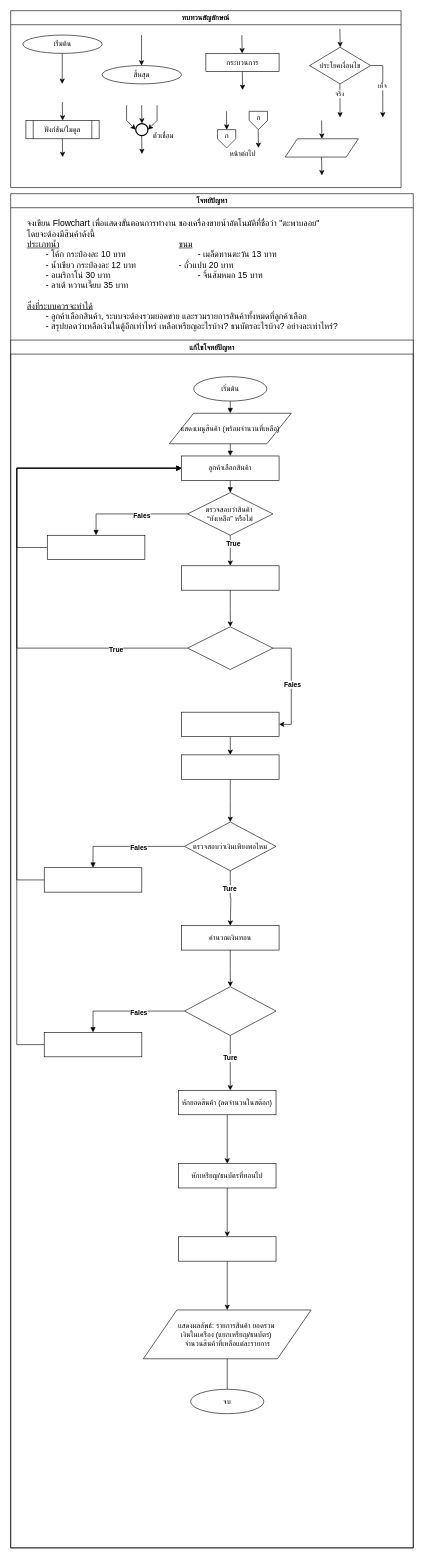
This 424x1559 diagram has some shape labels left out. Here are the shapes that lost their labels. From the top down, the centre of each, then its label:
point 321,147: แสดงผล/รับค่า
point 96,547: แสดงข้อความ “สินค้าหมด”
point 230,577: เพิ่มรายการเข้าในตะกร้า
point 230,647: ถามว่าจะเลือกเพิ่มหรือไม่
point 230,724: รวมยอดขายและแสดงรายการสินค้า
point 230,766: รับเงินจากลูกค้า
point 93,879: แสดงว่า "แจ้ง & ยกเลิก"
point 230,1010: ตรวจสอบว่าเครื่องมี ธนบัตรเพียงพอหรือไม่
point 93,1044: แสดงว่า “เครื่องมีเงินทอนไม่พอ”
point 227,1248: เพิ่มเงินที่ลูกค้าใส่เข้าในเครื่อง
